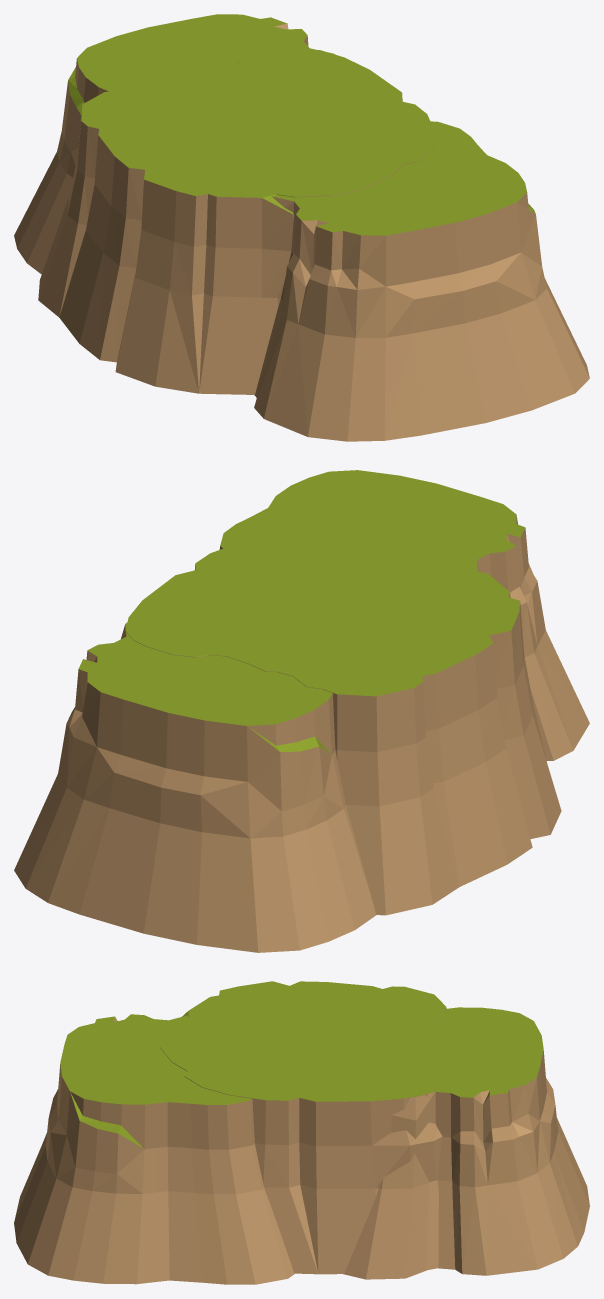
Rendered from Islands_15.fbx.
The picture shows the model from 3 angles, top to bottom: view 1: azimuth 30°, elevation 25°; view 2: azimuth 150°, elevation 25°; view 3: azimuth 270°, elevation 25°; orthographic projection. The views are drawn at different scales.
Visible parts, largest first — view 1: Islands_15; view 2: Islands_15; view 3: Islands_15.
Part boxes in pixels (box(x1,y1,x2,y2)): Islands_15: box(14, 14, 589, 441); Islands_15: box(14, 470, 589, 952); Islands_15: box(14, 981, 589, 1284).
Size of the model in its own units: 3931 by 1847 by 6055.
